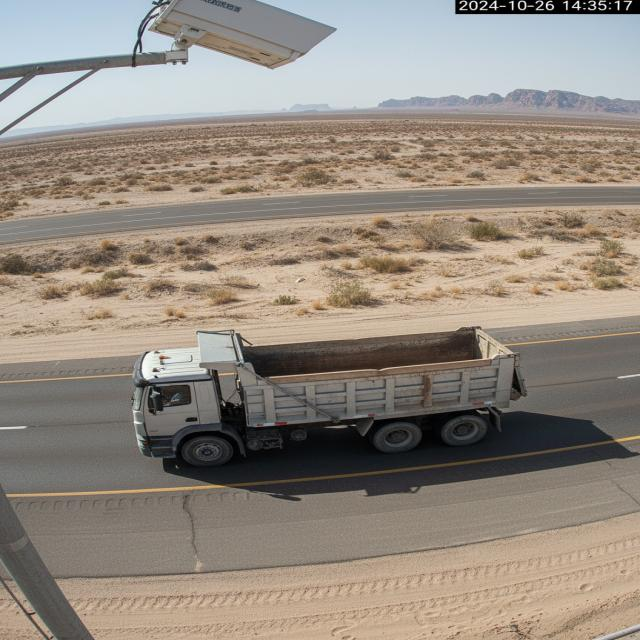trailer: (197, 329, 527, 382)
truck: (124, 327, 551, 468)
